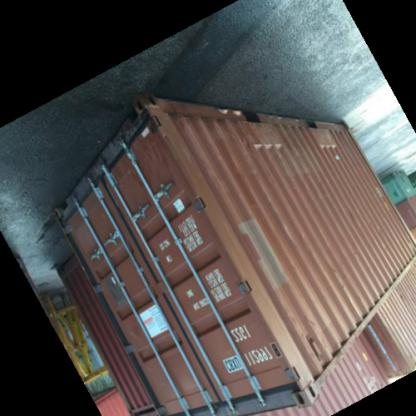Damage: (132, 107, 162, 140), (310, 139, 342, 158), (244, 144, 288, 154)
